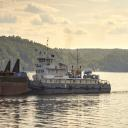tugboat: (28, 49, 113, 97)
